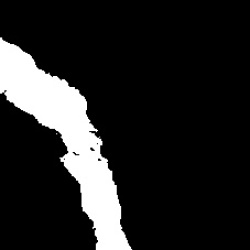crack: (2, 38, 132, 248)
